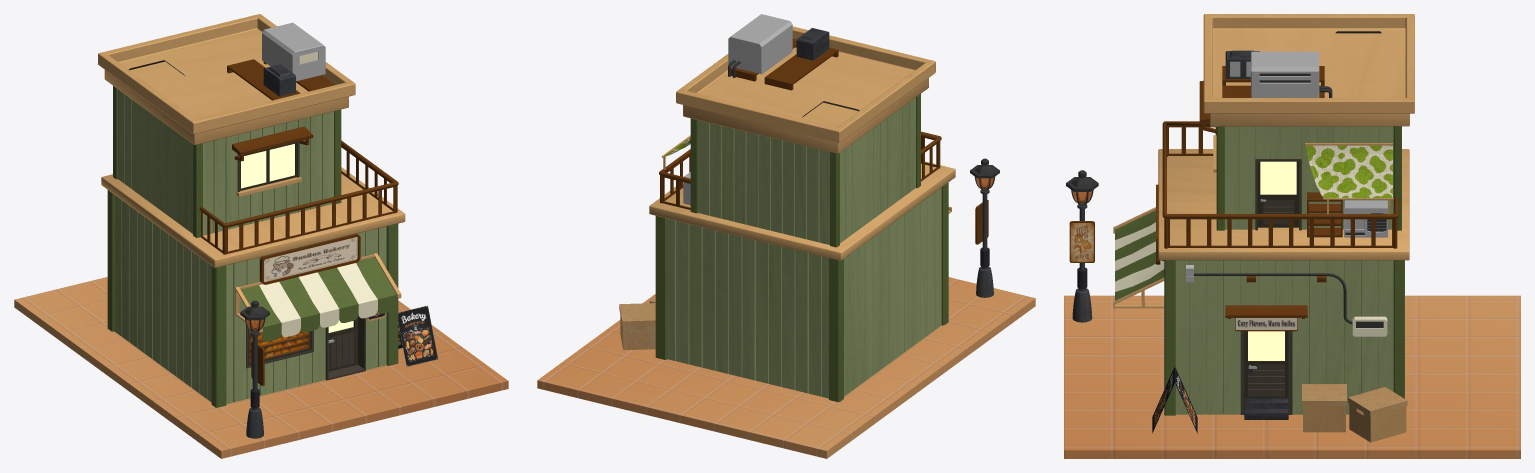
Rendered from Green House.fbx.
The picture shows the model from 3 angles, left to right: view 1: azimuth 30°, elevation 25°; view 2: azimuth 150°, elevation 25°; view 3: azimuth 270°, elevation 25°; orthographic projection. The views are drawn at different scales.
Visible parts, largest first — view 1: Plane, Plane.081, Plane.078, Plane.009, Plane.002, Plane.019, Plane.023, Plane.050, Plane.086, Plane.090, Plane.040, Circle.002 (+8 smaller); view 2: Plane.081, Plane, Plane.078, Plane.009, Plane.002, Plane.050, Plane.070, Circle.002, Plane.023, Plane.052, Plane.053; view 3: Plane, Plane.081, Plane.009, Plane.002, Plane.078, Plane.023, Plane.062, Plane.050, Plane.019, Plane.070, Plane.092, Plane.042 (+17 smaller).
Boxes of the visible parts, left/top/right/bottom form: Plane: left=14, top=277, right=508, bottom=458; Plane.081: left=107, top=190, right=398, bottom=407; Plane.078: left=113, top=86, right=341, bottom=237; Plane.009: left=98, top=14, right=355, bottom=144; Plane.002: left=101, top=167, right=405, bottom=267; Plane.019: left=240, top=256, right=396, bottom=341; Plane.023: left=199, top=140, right=398, bottom=254; Plane.050: left=262, top=22, right=325, bottom=81; Plane.086: left=264, top=237, right=357, bottom=281; Plane.090: left=398, top=305, right=437, bottom=366; Plane.040: left=241, top=144, right=294, bottom=188; Circle.002: left=240, top=300, right=269, bottom=438; Plane.081: left=655, top=182, right=948, bottom=402; Plane: left=537, top=277, right=1035, bottom=458; Plane.078: left=690, top=94, right=920, bottom=247; Plane.009: left=676, top=26, right=935, bottom=153; Plane.002: left=649, top=161, right=955, bottom=260; Plane.050: left=728, top=14, right=792, bottom=74; Plane.070: left=619, top=303, right=655, bottom=350; Circle.002: left=970, top=158, right=999, bottom=297; Plane.023: left=659, top=131, right=941, bottom=209; Plane.052: left=764, top=47, right=838, bottom=90; Plane.053: left=796, top=28, right=829, bottom=60; Plane: left=1064, top=295, right=1520, bottom=458; Plane.081: left=1164, top=260, right=1404, bottom=415; Plane.009: left=1203, top=14, right=1414, bottom=126; Plane.002: left=1158, top=149, right=1409, bottom=260; Plane.078: left=1216, top=126, right=1401, bottom=230; Plane.023: left=1162, top=121, right=1398, bottom=248; Plane.062: left=1306, top=145, right=1392, bottom=197; Plane.050: left=1251, top=51, right=1319, bottom=97; Plane.019: left=1115, top=210, right=1164, bottom=300; Plane.070: left=1348, top=387, right=1407, bottom=442; Plane.092: left=1302, top=384, right=1346, bottom=432; Plane.042: left=1244, top=331, right=1288, bottom=398.
Bounding box in the file's own units: 3259 × 3320 × 4068.
Materials: 4 (2 with a texture image).
